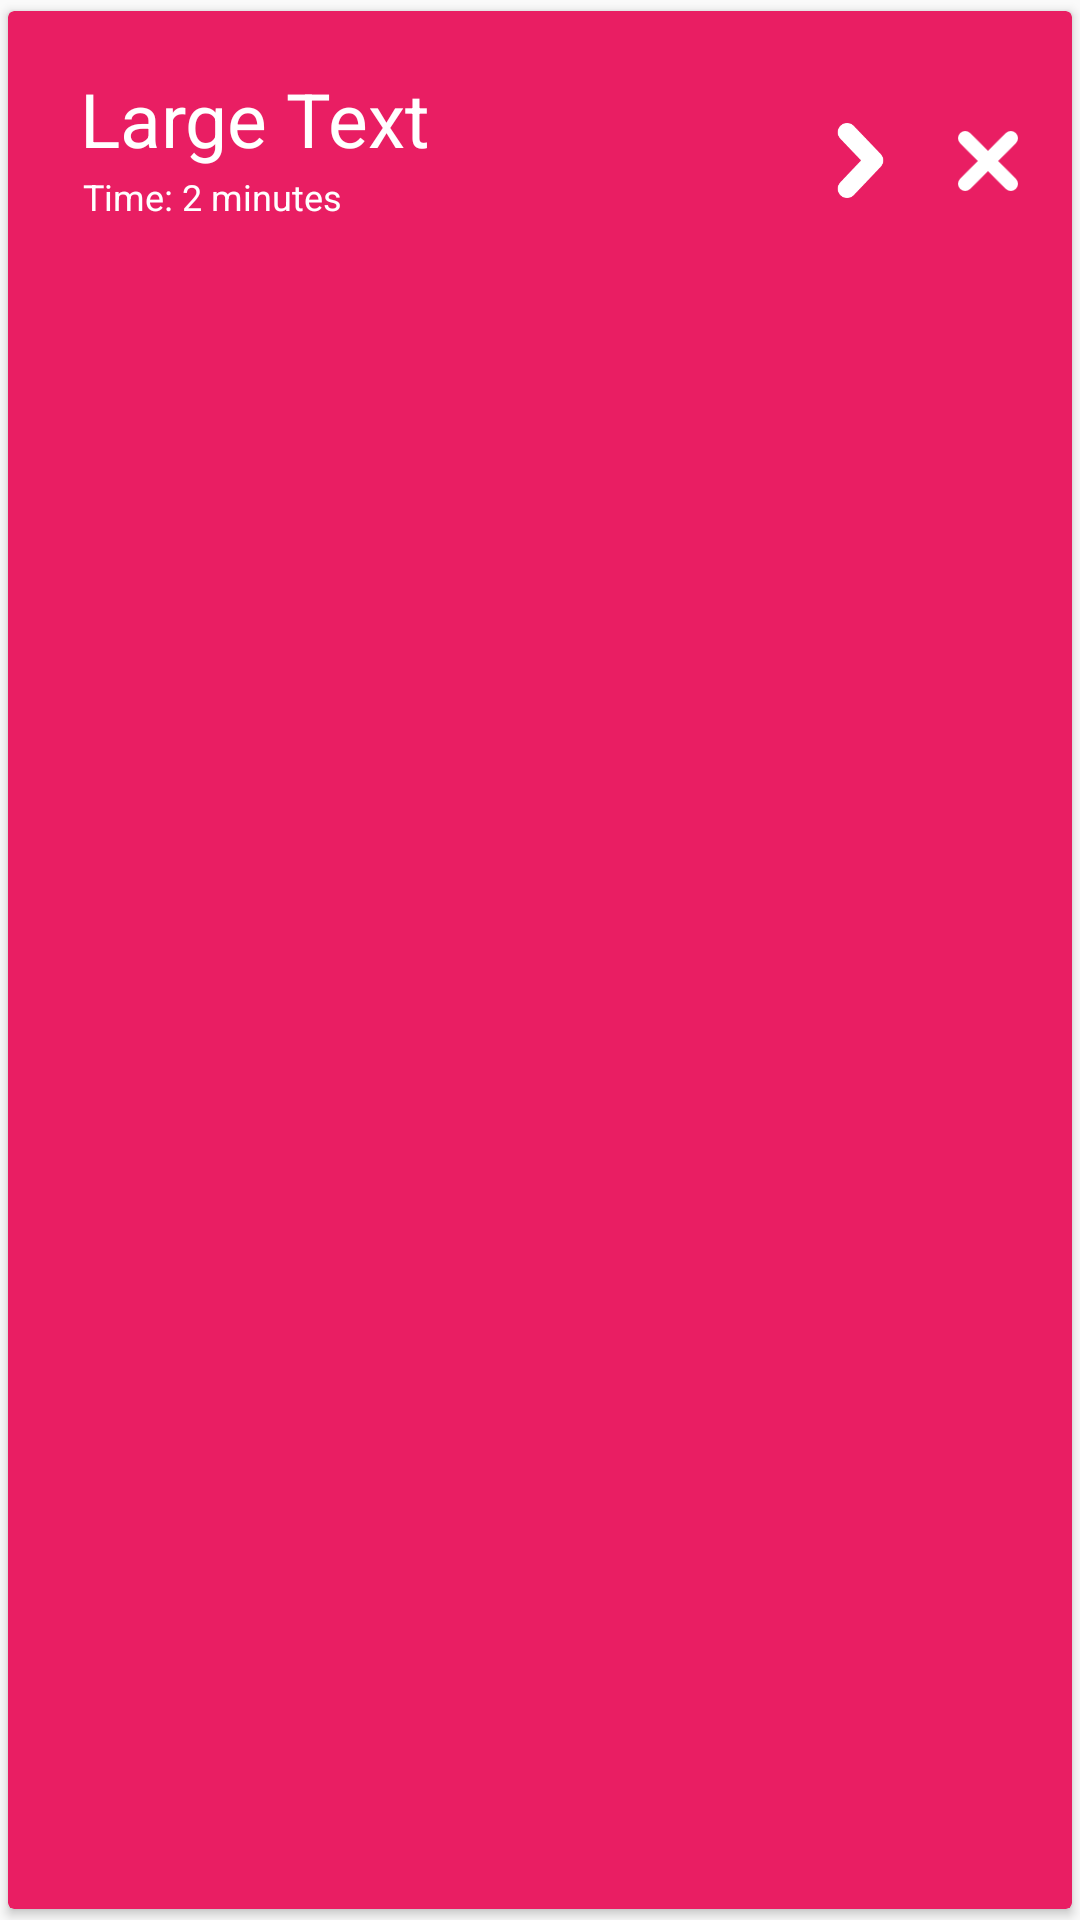

Icons on this 1080×1920 Android screen, each with its box as (x1, y1, x2, y2):
cross: (958, 131, 1018, 191)
next: (837, 123, 884, 198)
